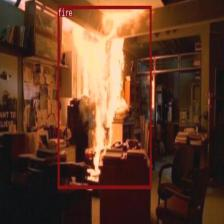fire: (57, 6, 151, 188)
